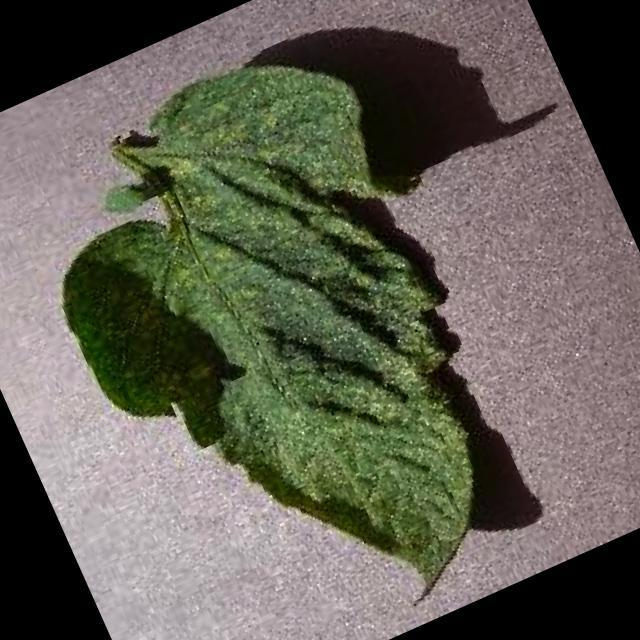Tomato spider mites leaf: (0, 21, 565, 640)
